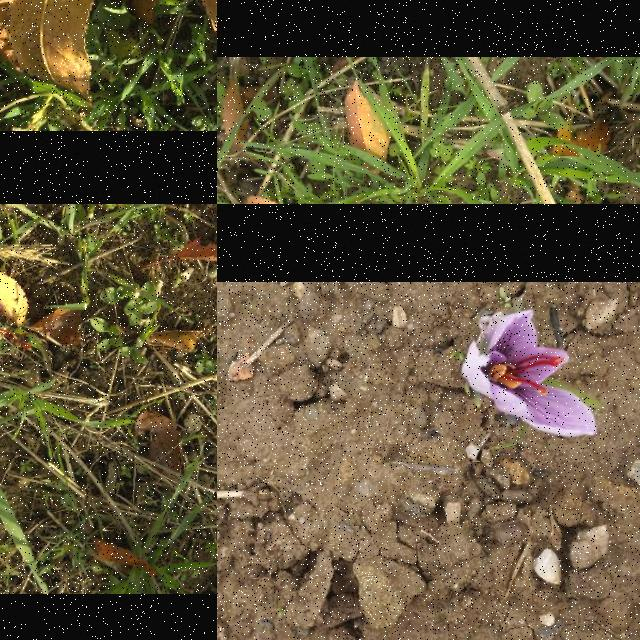flower: (462, 310, 598, 436), (0, 286, 31, 356)
